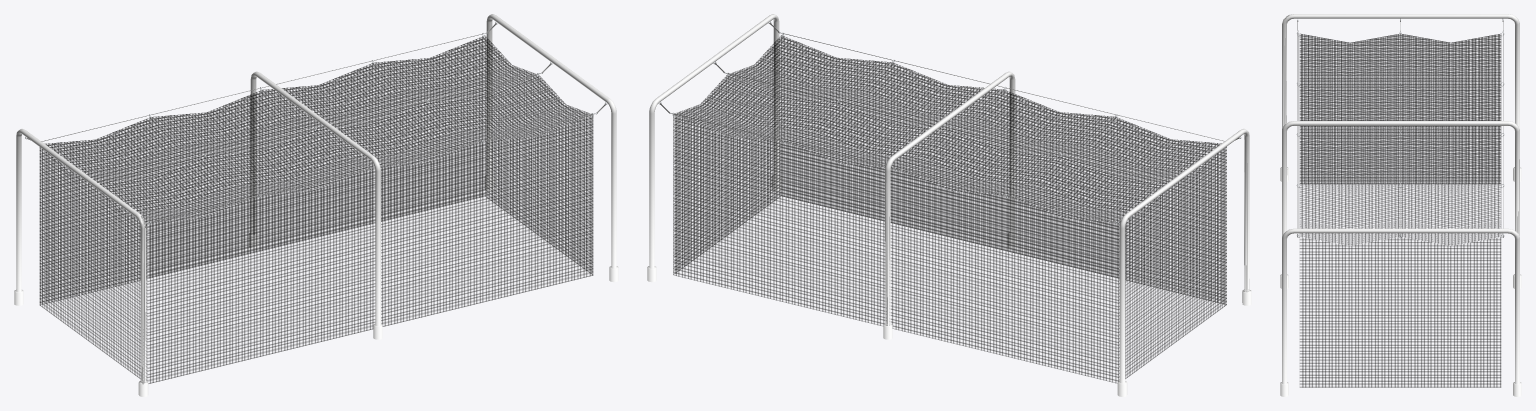
The model's file is Outdoor Varsity 35.glb.
3 renders of one model, left to right at view 1: azimuth 30°, elevation 25°; view 2: azimuth 150°, elevation 25°; view 3: azimuth 270°, elevation 25°, orthographic. The views are drawn at different scales.
Visible parts, largest first — view 1: Playground.001, Playground.006; view 2: Playground.001, Playground.006; view 3: Playground.001, Playground.006.
Part boxes in pixels (box(x1,y1,x2,y2)): Playground.001: box(39, 36, 593, 383); Playground.006: box(14, 14, 618, 396); Playground.001: box(673, 35, 1226, 383); Playground.006: box(647, 14, 1251, 396); Playground.001: box(1299, 33, 1501, 387); Playground.006: box(1280, 14, 1521, 396).
Size of the model in its own units: 11.3 by 4.01 by 5.28.
4 materials, 1 textured.
